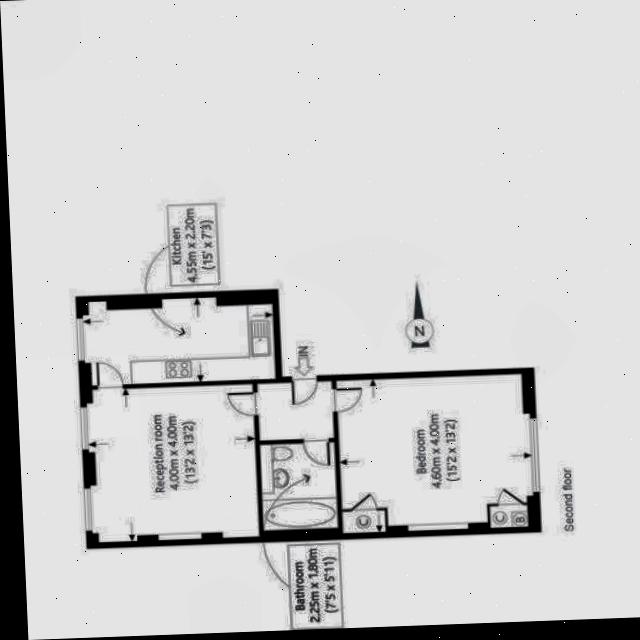room: (336, 372, 529, 533), (92, 383, 259, 542), (88, 294, 276, 385), (259, 440, 339, 531), (256, 380, 335, 440)
